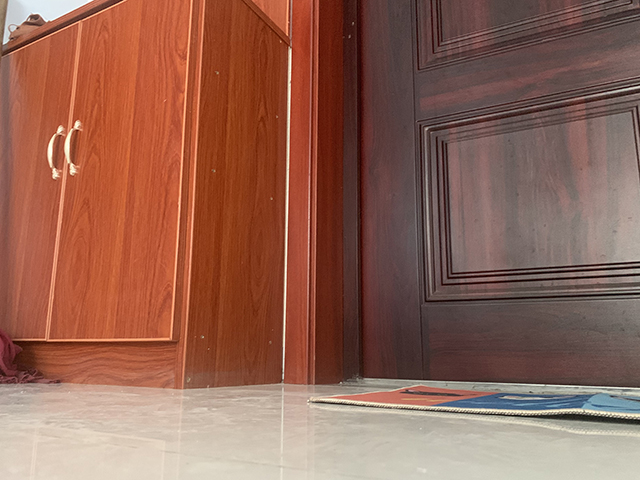cabinet: (1, 1, 289, 390)
carpet: (306, 383, 640, 422)
